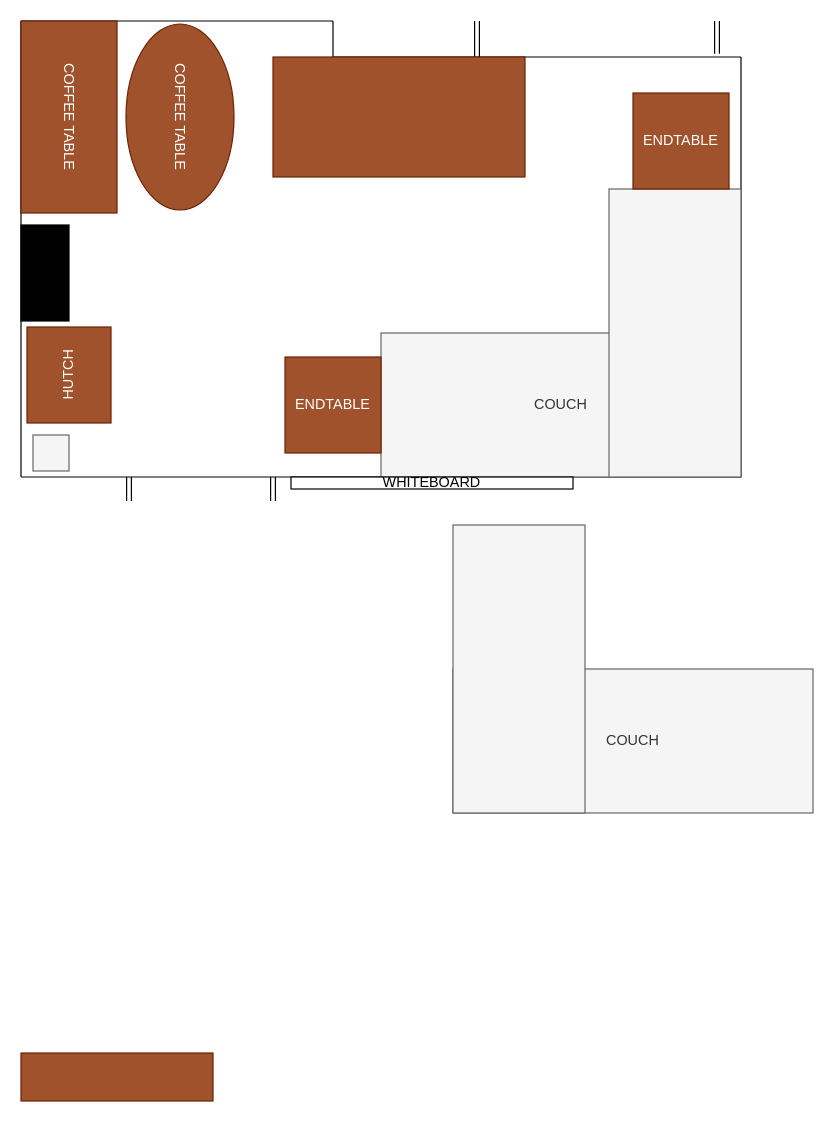
This 834x1122 diagram has some shape labels left out. Here are the shapes that lost their labels. From the top down, the centre of each, then its label:
At point 398,116: "DESK".
At point 44,272: "BOOKCASE".
At point 50,452: "LAMP".
At point 116,1076: "CONSOLE".
